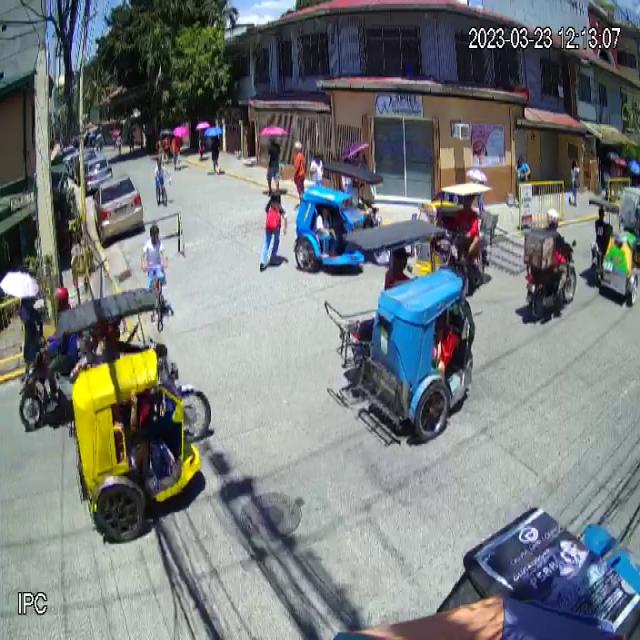Car: (95, 172, 143, 242)
Motorcycle: (524, 228, 578, 322)
Tricycle: (56, 287, 214, 547), (324, 218, 478, 444), (293, 160, 383, 273), (589, 198, 638, 309)
